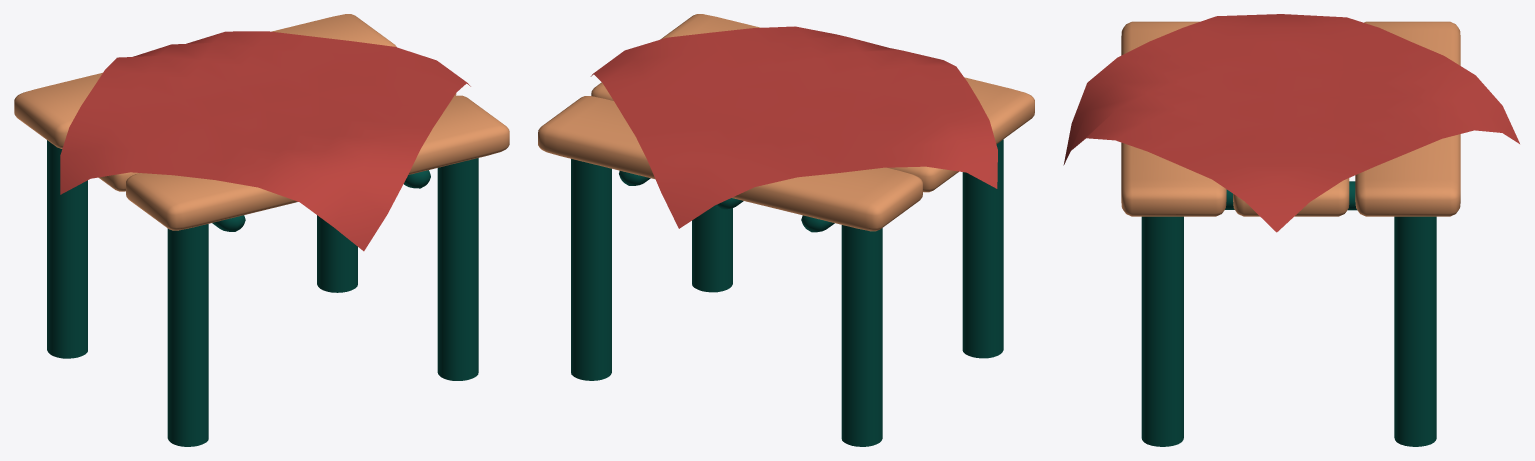
The model's file is Table_CC.glb.
3 renders of one model, left to right at view 1: azimuth 30°, elevation 25°; view 2: azimuth 150°, elevation 25°; view 3: azimuth 270°, elevation 25°, orthographic. The views are drawn at different scales.
Parts seen in each view (by area): view 1: Table_CC; view 2: Table_CC; view 3: Table_CC.
Boxes of the visible parts, x1,y1,x2,y2 form: Table_CC: (14, 14, 509, 446); Table_CC: (538, 14, 1034, 446); Table_CC: (1063, 14, 1519, 446).
Bounding box in the file's own units: 0.5641 × 0.3434 × 0.5212.
Materials: 1 (1 with a texture image).
